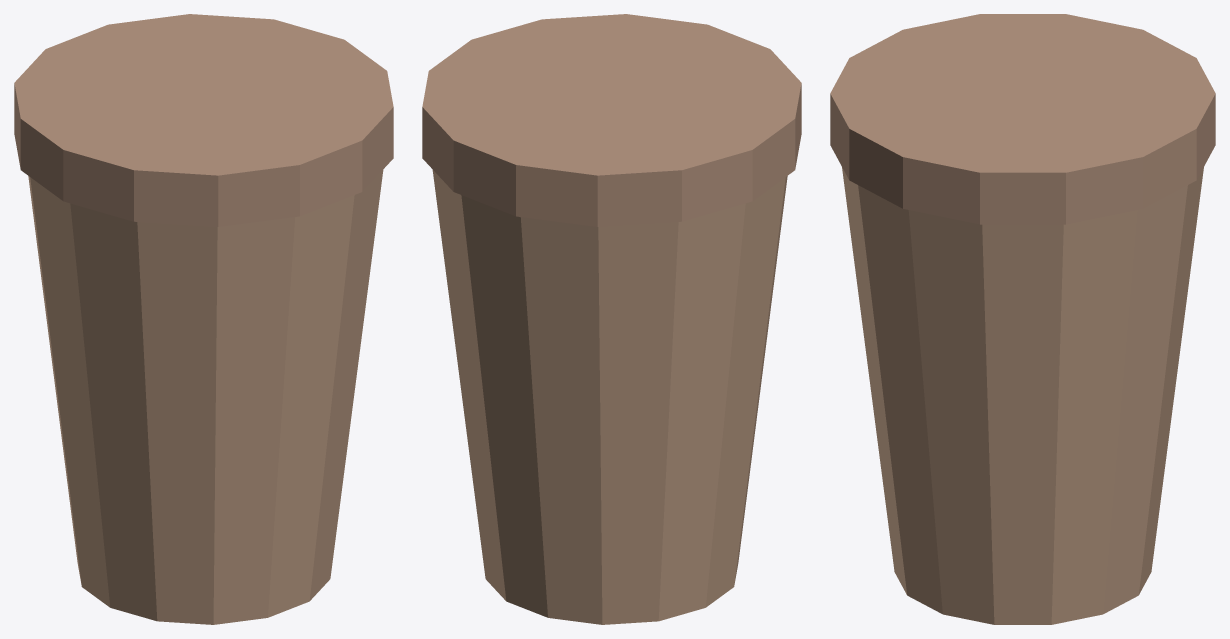
Rendered from liv_aces_vaso_decor.glb.
3 renders of one model, left to right at view 1: azimuth 30°, elevation 25°; view 2: azimuth 150°, elevation 25°; view 3: azimuth 270°, elevation 25°, orthographic.
Visible parts, largest first — view 1: LIV_Aces_VasoDecor_v01; view 2: LIV_Aces_VasoDecor_v01; view 3: LIV_Aces_VasoDecor_v01.
Boxes of the visible parts, left/top/right/bottom form: LIV_Aces_VasoDecor_v01: left=14, top=14, right=393, bottom=624; LIV_Aces_VasoDecor_v01: left=422, top=14, right=801, bottom=624; LIV_Aces_VasoDecor_v01: left=830, top=14, right=1215, bottom=624.
Size of the model in its own units: 0.2632 by 0.37 by 0.27.
